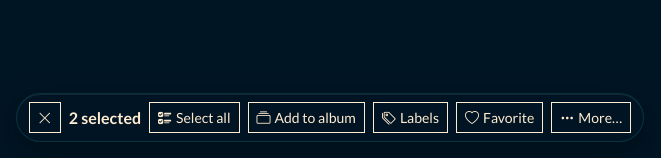
Test: BatchActionBar for a curator › offers the album, label, favorite and full-editor actions
expect the button "Add to album" is shown: met, box [248,102,365,133]
expect the button "Labels" is shown: met, box [373,102,448,133]
Click the button "More…" at (591,118), box [551,102,631,133]
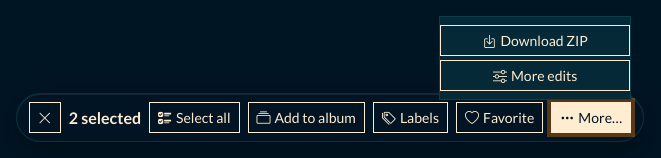
expect the button "More edits" is shown: met, box [440,60,630,91]
